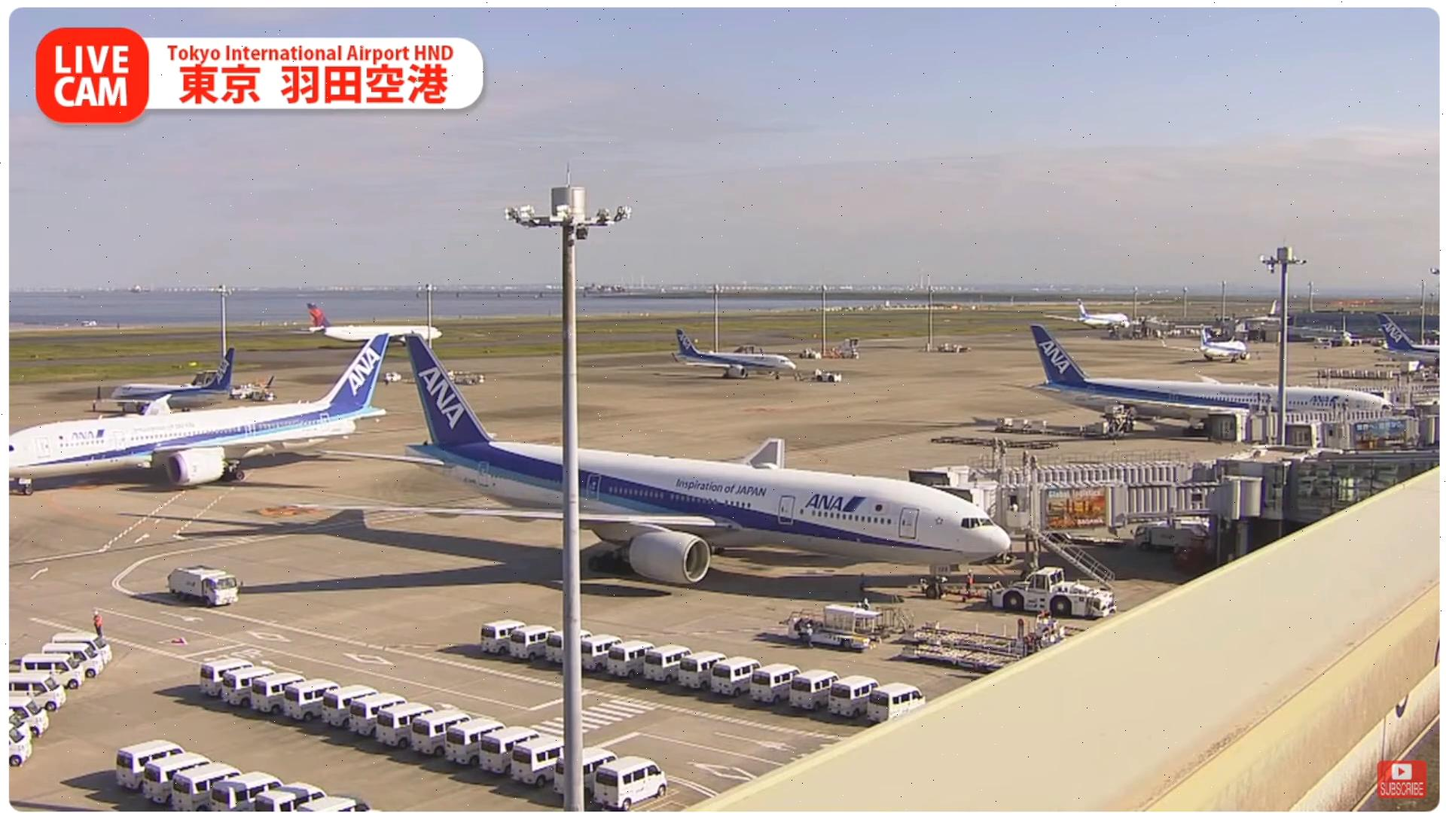APS: (987, 562, 1123, 616)
Aerobridge: (956, 480, 1243, 535), (885, 461, 1213, 481)
Airplane: (290, 331, 1014, 585)
Baggage truck: (167, 565, 242, 611)
JCPL: (902, 604, 1064, 651), (907, 629, 1080, 672)
Skyloader: (787, 601, 887, 654)
Window: (1270, 448, 1442, 536)
